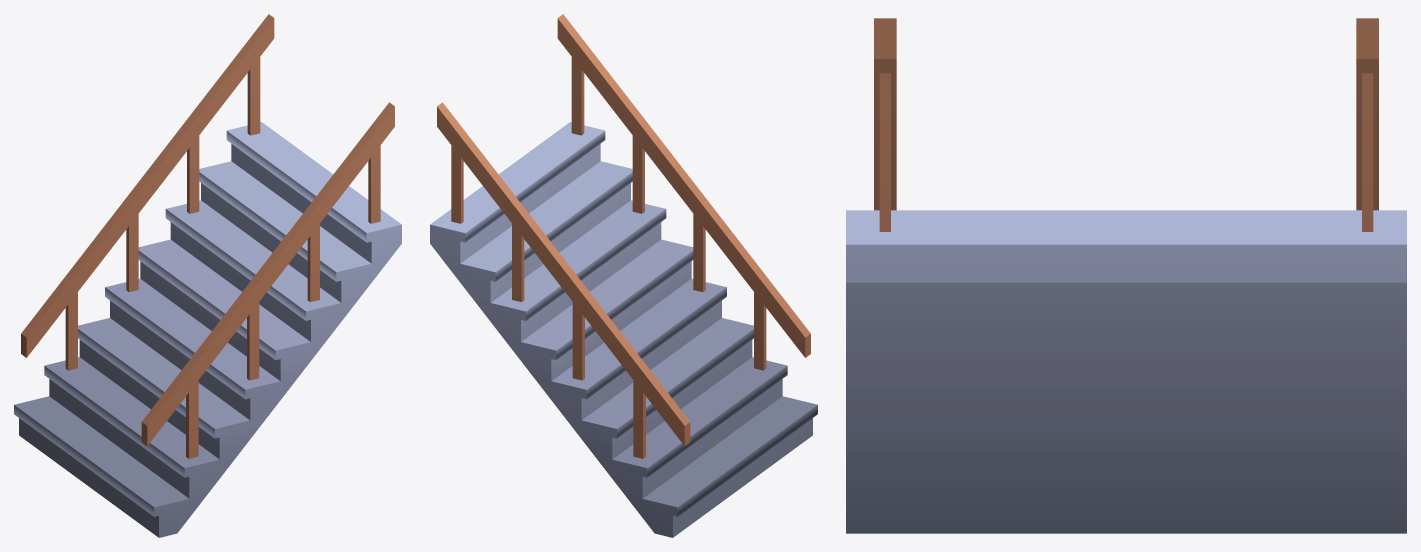
Rendered from stairs-wide-stone-handrail.glb.
The picture shows the model from 3 angles, left to right: view 1: azimuth 30°, elevation 25°; view 2: azimuth 150°, elevation 25°; view 3: azimuth 270°, elevation 25°; orthographic projection. The views are drawn at different scales.
Visible parts, largest first — view 1: stairs-wide-stone-handrail; view 2: stairs-wide-stone-handrail; view 3: stairs-wide-stone-handrail.
Part boxes in pixels (<box>): stairs-wide-stone-handrail: <box>14,14,401,537</box>; stairs-wide-stone-handrail: <box>430,14,817,537</box>; stairs-wide-stone-handrail: <box>846,18,1406,533</box>.
Size of the model in its own units: 1.02 by 1.45 by 1.
1 material, 1 textured.
